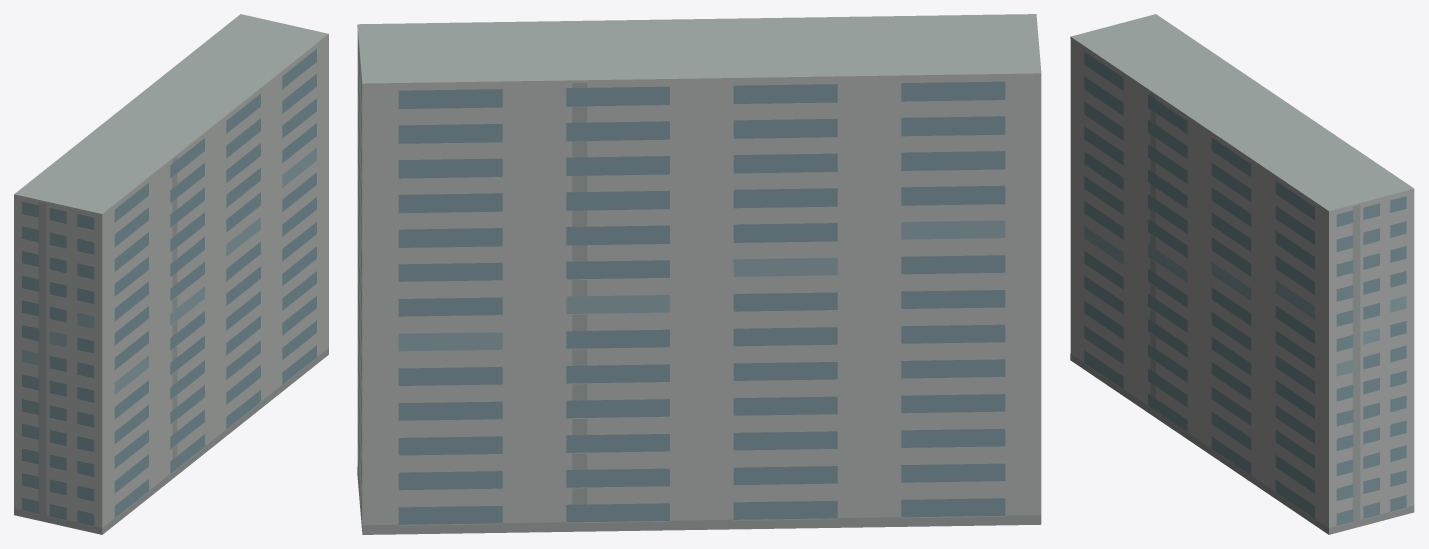
File: residential-f1bb4a97-a4b5-4f0e-b00b-5d13f85f6df5.glb
3 views of the same model, side by side, from view 1: azimuth 30°, elevation 25°; view 2: azimuth 150°, elevation 25°; view 3: azimuth 270°, elevation 25° (orthographic). The views are drawn at different scales.
Visible parts, largest first — view 1: residential-f1bb4a97-a4b5-4f0e-b00b-5d13f85f6df5.tmp; view 2: residential-f1bb4a97-a4b5-4f0e-b00b-5d13f85f6df5.tmp; view 3: residential-f1bb4a97-a4b5-4f0e-b00b-5d13f85f6df5.tmp.
Part boxes in pixels (x1,y1,x2,y2): residential-f1bb4a97-a4b5-4f0e-b00b-5d13f85f6df5.tmp: (14, 14, 328, 534); residential-f1bb4a97-a4b5-4f0e-b00b-5d13f85f6df5.tmp: (357, 14, 1041, 534); residential-f1bb4a97-a4b5-4f0e-b00b-5d13f85f6df5.tmp: (1070, 14, 1414, 534).
Size of the model in its own units: 51.8 by 39.65 by 38.18.
